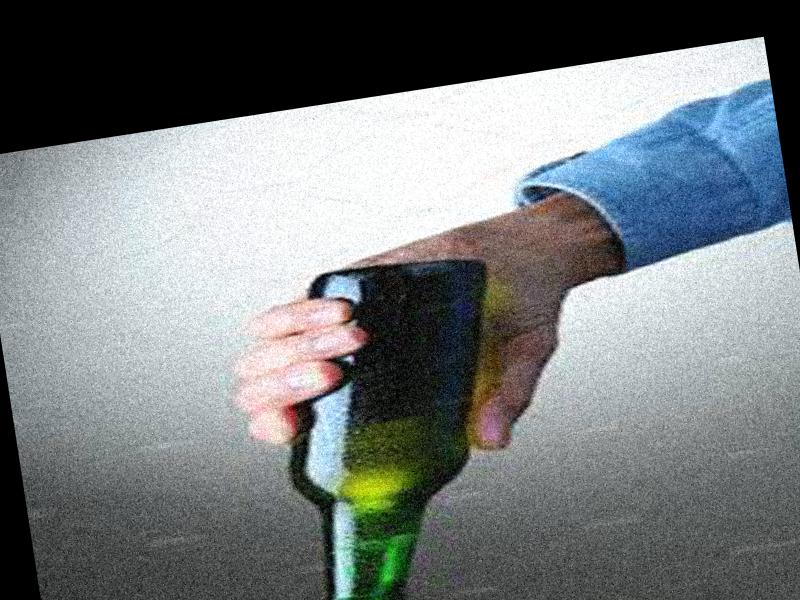Beer: (262, 245, 541, 600)
